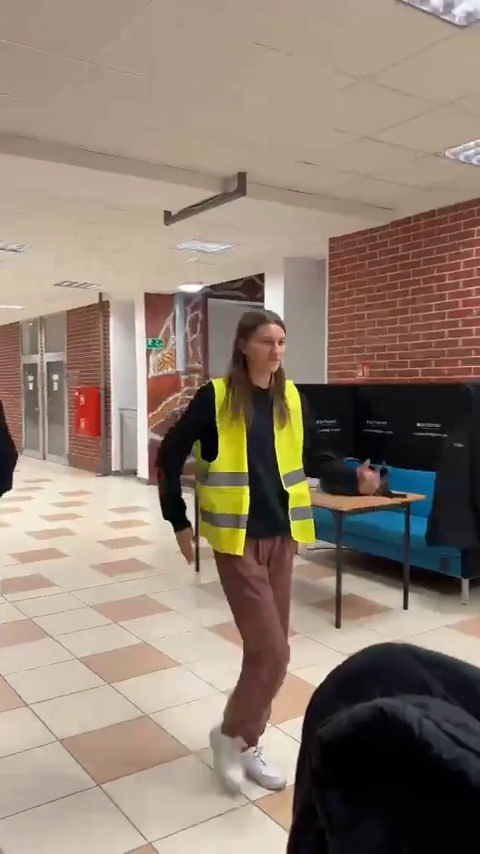vest: (153, 307, 387, 806)
